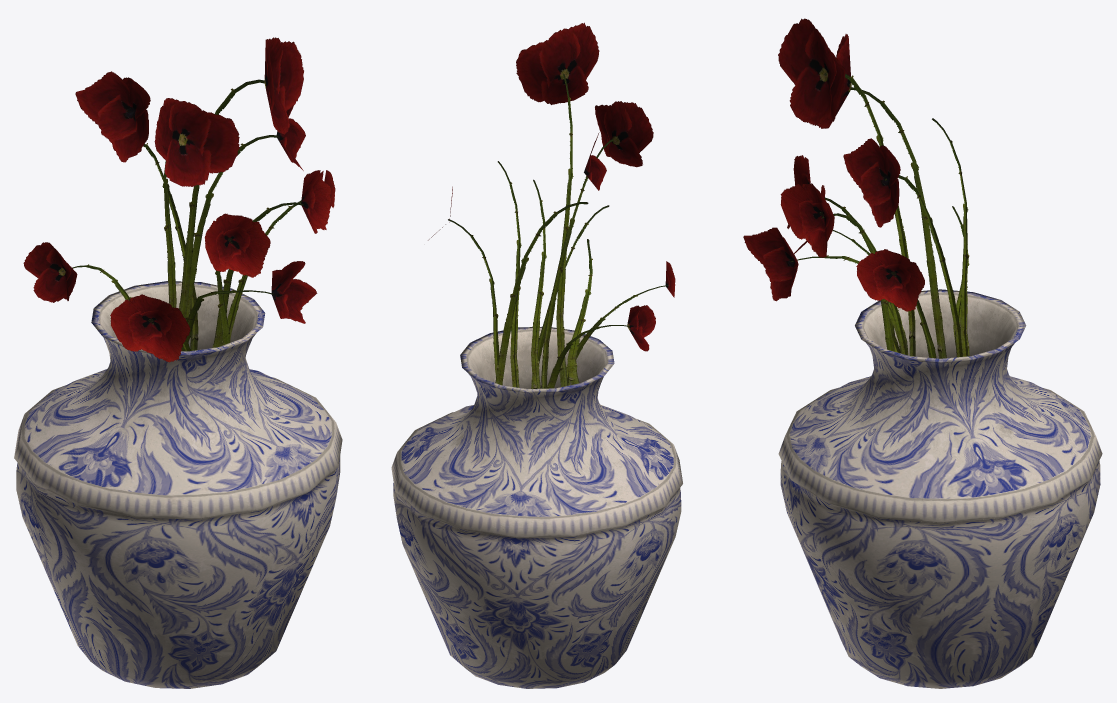
Rendered from M_Coquelicot_Import.fbx.
The picture shows the model from 3 angles, left to right: view 1: azimuth 30°, elevation 25°; view 2: azimuth 150°, elevation 25°; view 3: azimuth 270°, elevation 25°; orthographic projection. The views are drawn at different scales.
Visible parts, largest first — view 1: S_Vase, M_Coquelicot; view 2: S_Vase, M_Coquelicot; view 3: S_Vase, M_Coquelicot.
Boxes of the visible parts, box(x1,y1,x2,y2) form: S_Vase: box(14, 281, 342, 688); M_Coquelicot: box(23, 37, 335, 362); S_Vase: box(391, 326, 682, 688); M_Coquelicot: box(428, 22, 675, 388); S_Vase: box(778, 289, 1102, 688); M_Coquelicot: box(743, 18, 969, 358).
Bounding box in the file's own units: 21.35 × 46.99 × 23.29.
